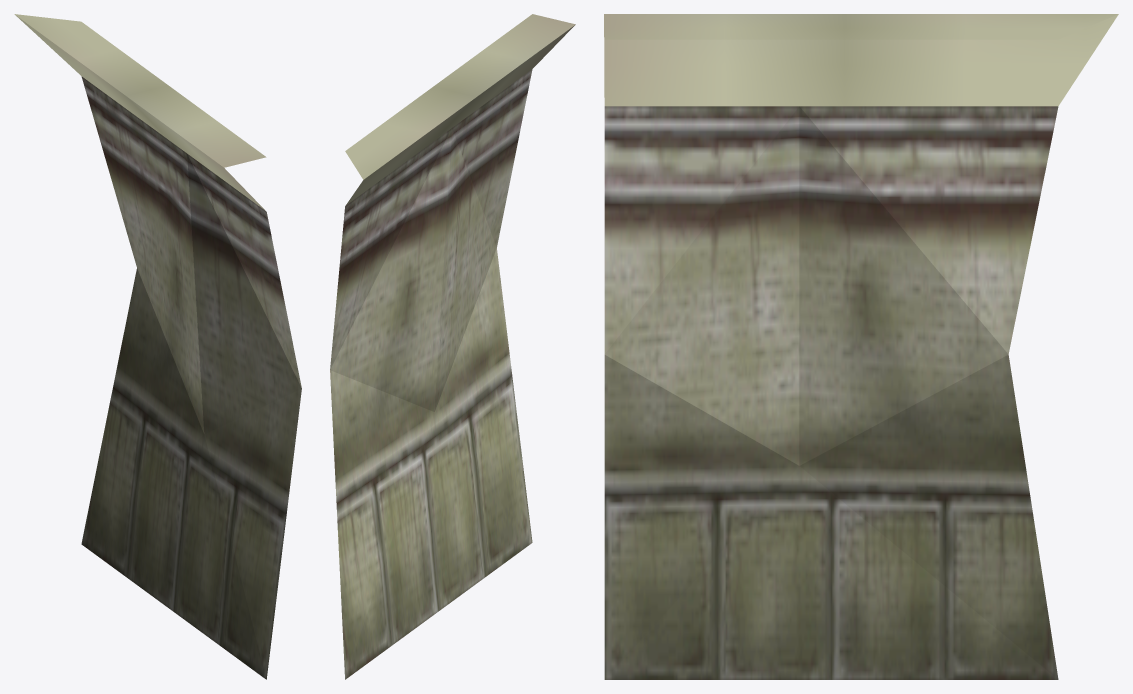
The model's file is W_A2l_x_Gedreht [GrünerMarmor]_2201.glb.
3 renders of one model, left to right at view 1: azimuth 30°, elevation 25°; view 2: azimuth 150°, elevation 25°; view 3: azimuth 270°, elevation 25°, orthographic. The views are drawn at different scales.
Visible parts, largest first — view 1: polySurfaceShape1204, polySurfaceShape1206; view 2: polySurfaceShape1204, polySurfaceShape1206; view 3: polySurfaceShape1204, polySurfaceShape1206.
Part boxes in pixels (box(x1,y1,x2,y2)): polySurfaceShape1204: box(81, 76, 301, 679); polySurfaceShape1206: box(14, 14, 266, 210); polySurfaceShape1204: box(330, 69, 532, 679); polySurfaceShape1206: box(345, 14, 575, 205); polySurfaceShape1204: box(604, 106, 1058, 679); polySurfaceShape1206: box(604, 14, 1118, 106).
Size of the model in its own units: 0.0607 by 0.3891 by 0.2836.
2 materials, 2 textured.
